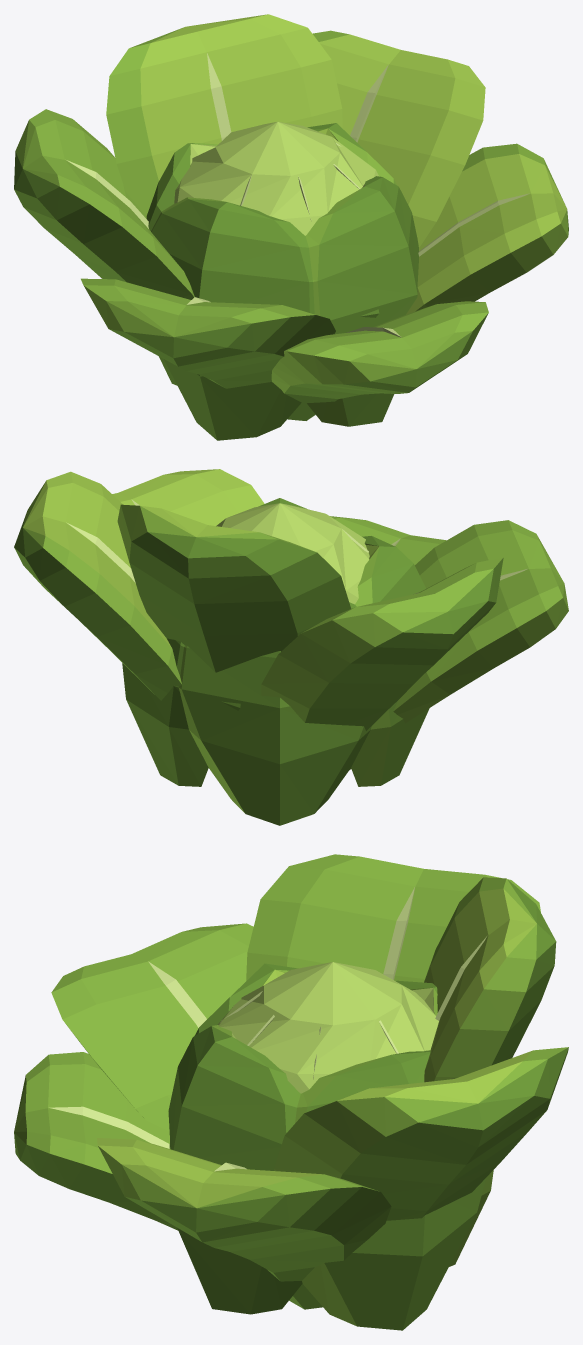
Rendered from FMS_Crop_Cabbage_S3.fbx.
3 renders of one model, top to bottom at view 1: azimuth 30°, elevation 25°; view 2: azimuth 150°, elevation 25°; view 3: azimuth 270°, elevation 25°, orthographic. The views are drawn at different scales.
Parts seen in each view (by area): view 1: FMS_Crop_Cabbage_S3; view 2: FMS_Crop_Cabbage_S3; view 3: FMS_Crop_Cabbage_S3.
Part boxes in pixels (bbox=[...]): FMS_Crop_Cabbage_S3: bbox=[14, 14, 568, 440]; FMS_Crop_Cabbage_S3: bbox=[14, 469, 568, 825]; FMS_Crop_Cabbage_S3: bbox=[14, 854, 568, 1330].
Bounding box in the file's own units: 0.5499 × 0.348 × 0.4791.
